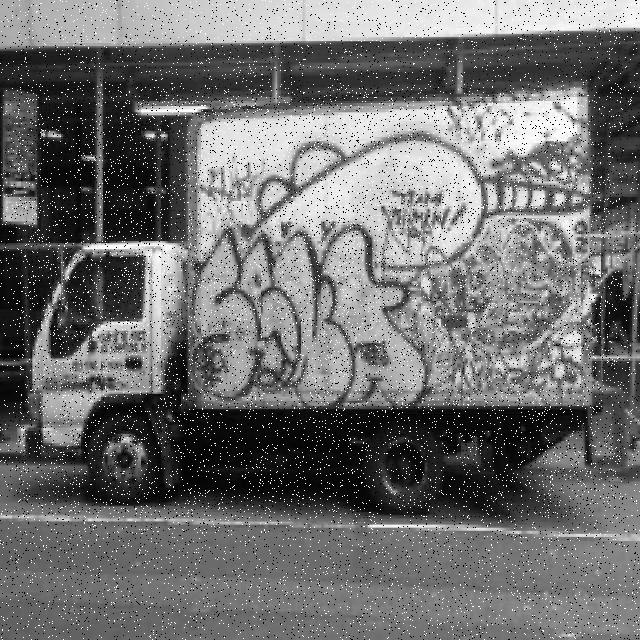Box Truck: (16, 87, 623, 517)
